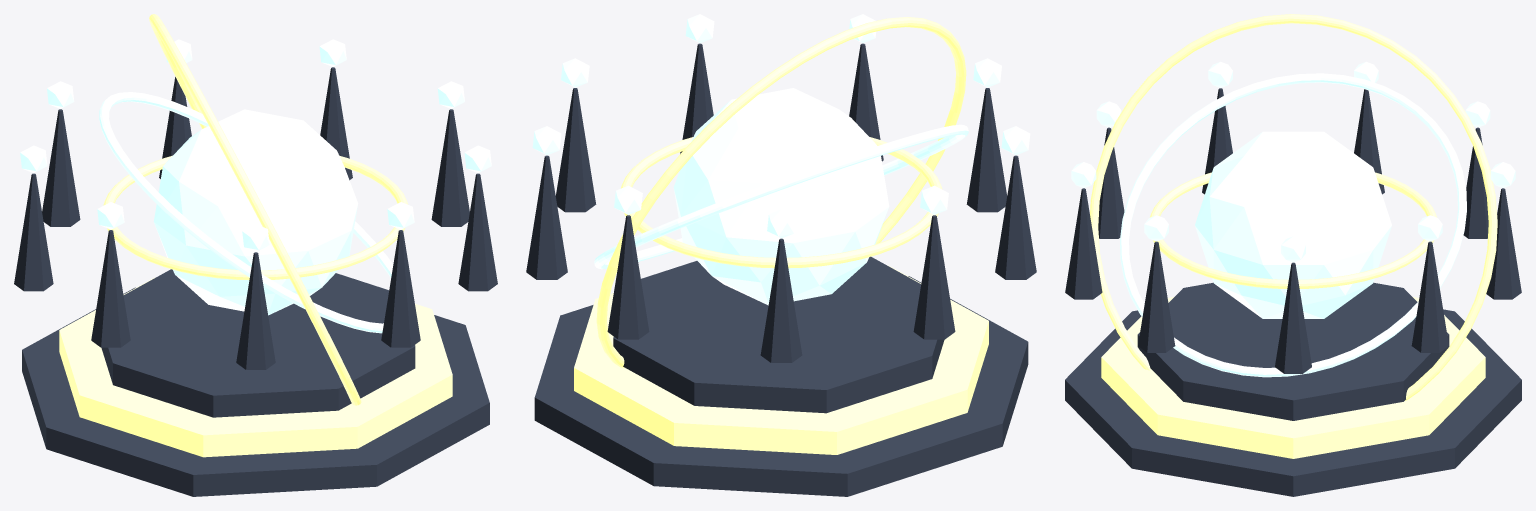
The model's file is gpu-blender-v56.glb.
3 views of the same model, side by side, from view 1: azimuth 30°, elevation 25°; view 2: azimuth 150°, elevation 25°; view 3: azimuth 270°, elevation 25° (orthographic). The views are drawn at different scales.
Visible parts, largest first — view 1: Cylinder.002, SovereignCore_nexus-3d-scene-studio, Cylinder, Cylinder.001, Torus.001, Torus.002, Torus, Cone.004, Cone.008, Cone.005, Cone.007, Cone.006 (+12 smaller); view 2: Cylinder.002, SovereignCore_nexus-3d-scene-studio, Cylinder, Cylinder.001, Torus.002, Torus.001, Torus, Cone.002, Cone.004, Cone, Cone.001, Cone.005 (+12 smaller); view 3: SovereignCore_nexus-3d-scene-studio, Cylinder.002, Cylinder, Cylinder.001, Torus.002, Torus.001, Torus, Cone.007, Cone.001, Cone.008, Cone, Cone.002 (+10 smaller).
Boxes of the visible parts, x1,y1,x2,y2 form: Cylinder.002: (101, 269, 415, 417); SovereignCore_nexus-3d-scene-studio: (153, 109, 358, 315); Cylinder: (22, 287, 489, 496); Cylinder.001: (59, 277, 452, 457); Torus.001: (99, 92, 393, 333); Torus.002: (149, 14, 361, 405); Torus: (103, 155, 408, 279); Cone.004: (14, 173, 53, 291); Cone.008: (458, 173, 497, 291); Cone.005: (91, 230, 130, 347); Cone.007: (381, 230, 420, 347); Cone.006: (236, 252, 275, 369); Cylinder.002: (613, 256, 944, 413); SovereignCore_nexus-3d-scene-studio: (673, 88, 889, 305); Cylinder: (534, 276, 1028, 496); Cylinder.001: (574, 265, 988, 454); Torus.002: (596, 17, 966, 367); Torus.001: (594, 124, 968, 269); Torus: (621, 137, 942, 268); Cone.002: (607, 215, 649, 339); Cone.004: (913, 215, 955, 339); Cone: (555, 88, 596, 212); Cone.001: (526, 155, 567, 279); Cone.005: (995, 155, 1036, 279); SovereignCore_nexus-3d-scene-studio: (1195, 131, 1391, 318); Cylinder.002: (1137, 282, 1449, 420); Cylinder: (1065, 309, 1521, 496); Cylinder.001: (1101, 296, 1485, 458); Torus.002: (1090, 14, 1497, 400); Torus.001: (1120, 73, 1466, 377); Torus: (1150, 172, 1436, 288); Cone.007: (1065, 188, 1102, 299); Cone.001: (1411, 241, 1448, 352); Cone.008: (1138, 241, 1175, 352); Cone: (1275, 262, 1311, 373); Cone.002: (1486, 188, 1521, 299).
Bounding box in the file's own units: 4.41 × 3.72 × 4.4.
